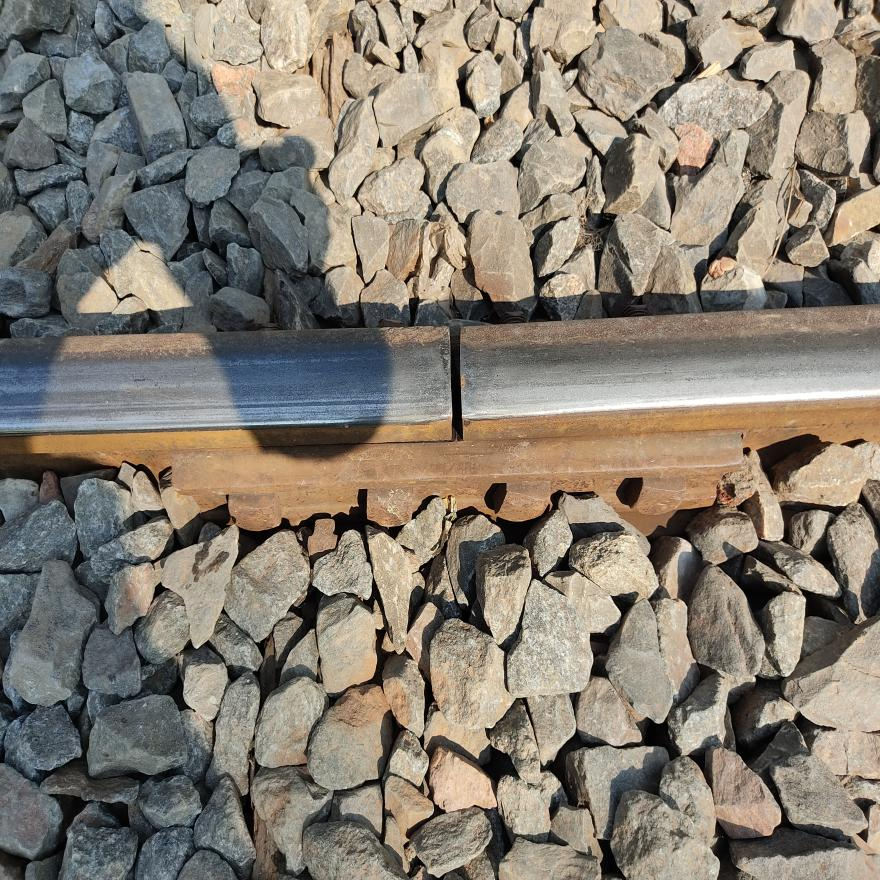railway-gap: (371, 275, 540, 494)
